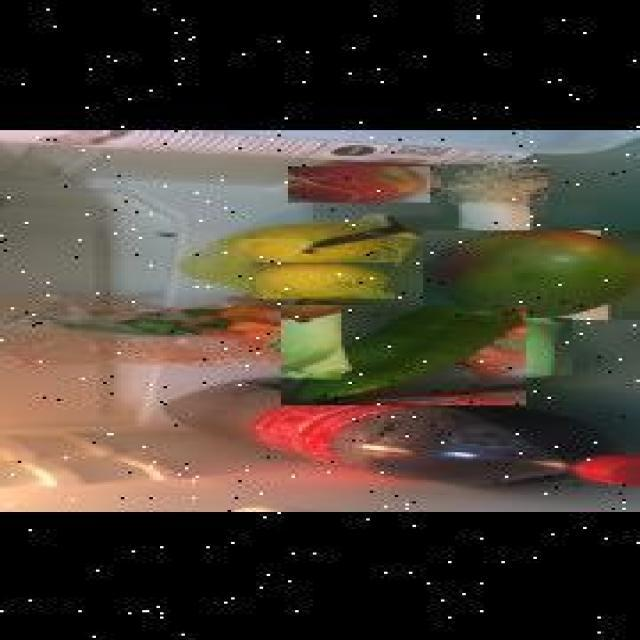apple: (288, 164, 430, 201)
bell_pepper: (280, 303, 526, 403)
leek: (440, 162, 548, 228), (452, 316, 572, 374)
lemon: (252, 260, 394, 297)
mango: (423, 226, 640, 316)
